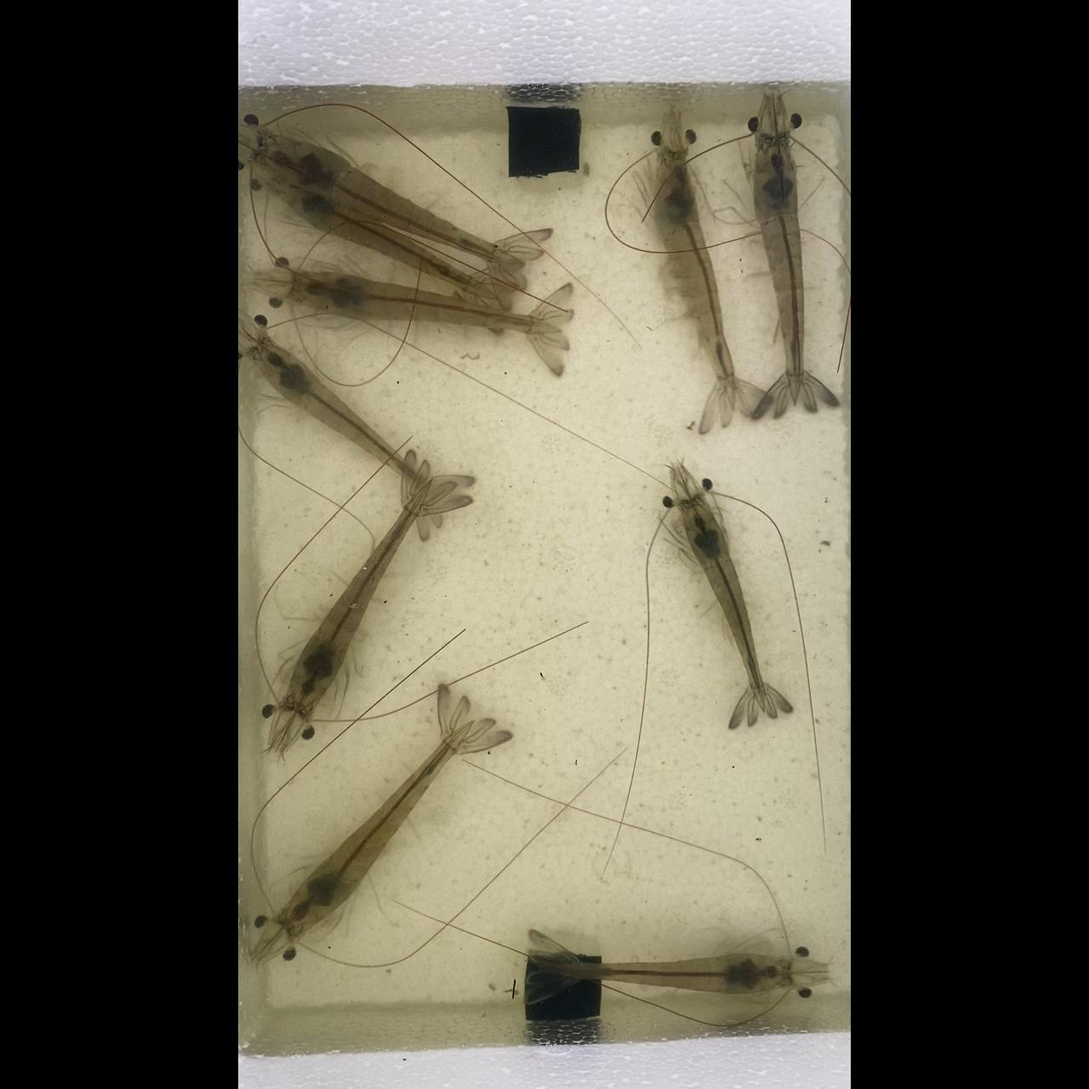box: (506, 106, 581, 178), (529, 952, 598, 1020)
top_shrimp: (282, 720, 474, 932), (288, 479, 434, 709), (266, 138, 526, 266), (274, 167, 501, 302), (253, 341, 430, 496), (655, 151, 736, 410), (682, 497, 763, 713), (292, 273, 561, 332), (754, 135, 805, 408), (546, 953, 794, 993)
